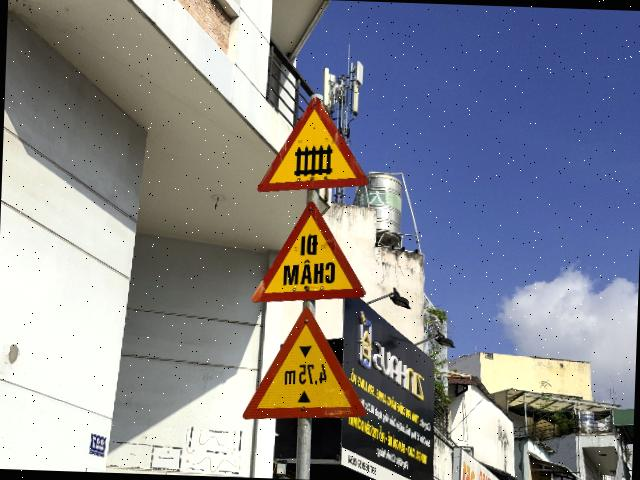chieu-cao-tinh-khong-thuc-te: (242, 304, 371, 424)
di-cham: (250, 199, 370, 308)
noi-giao-nhau-voi-duong-sat-co-rao-chan: (256, 93, 372, 196)
